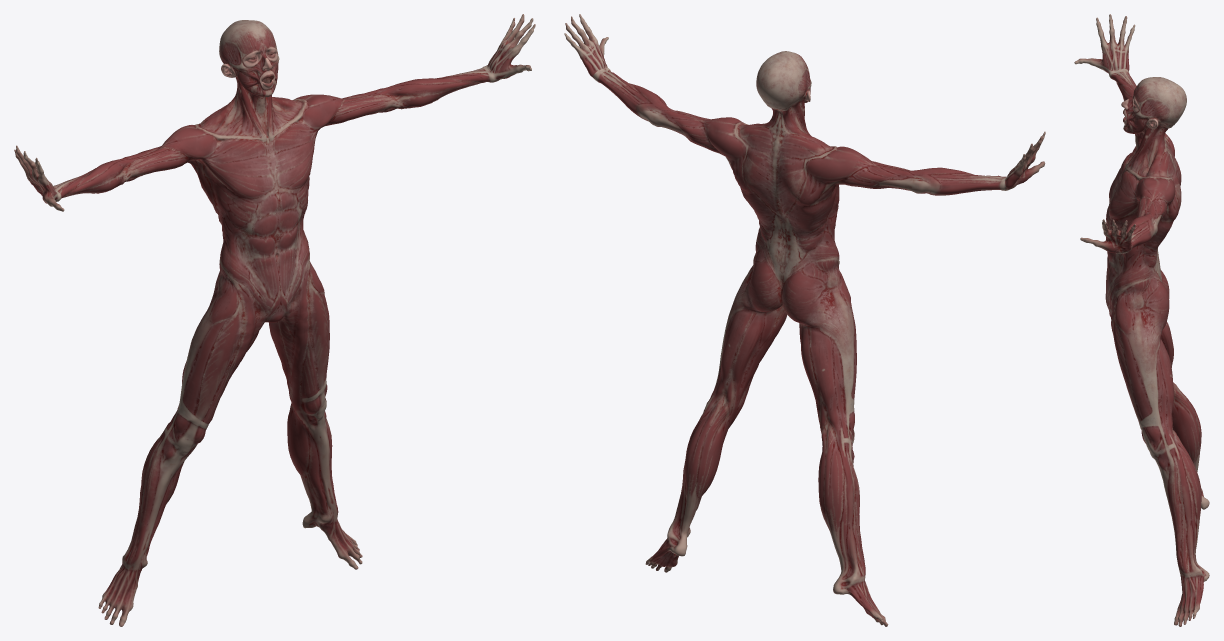
The model's file is body_full.glb.
3 renders of one model, left to right at view 1: azimuth 30°, elevation 25°; view 2: azimuth 150°, elevation 25°; view 3: azimuth 270°, elevation 25°, orthographic. The views are drawn at different scales.
Visible parts, largest first — view 1: Object_2; view 2: Object_2; view 3: Object_2.
Boxes of the visible parts, x1,y1,x2,y2 form: Object_2: [14, 14, 535, 626]; Object_2: [564, 14, 1045, 626]; Object_2: [1074, 14, 1209, 626].
Bounding box in the file's own units: 1.6 × 1.75 × 0.4311.
1 material, 1 textured.
